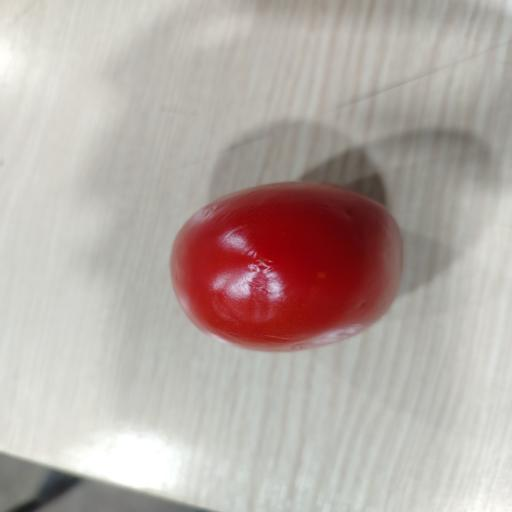overipe: (172, 182, 402, 351)
